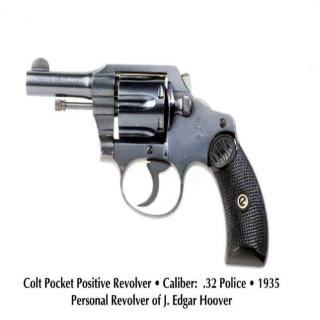gun: (25, 51, 268, 270)
